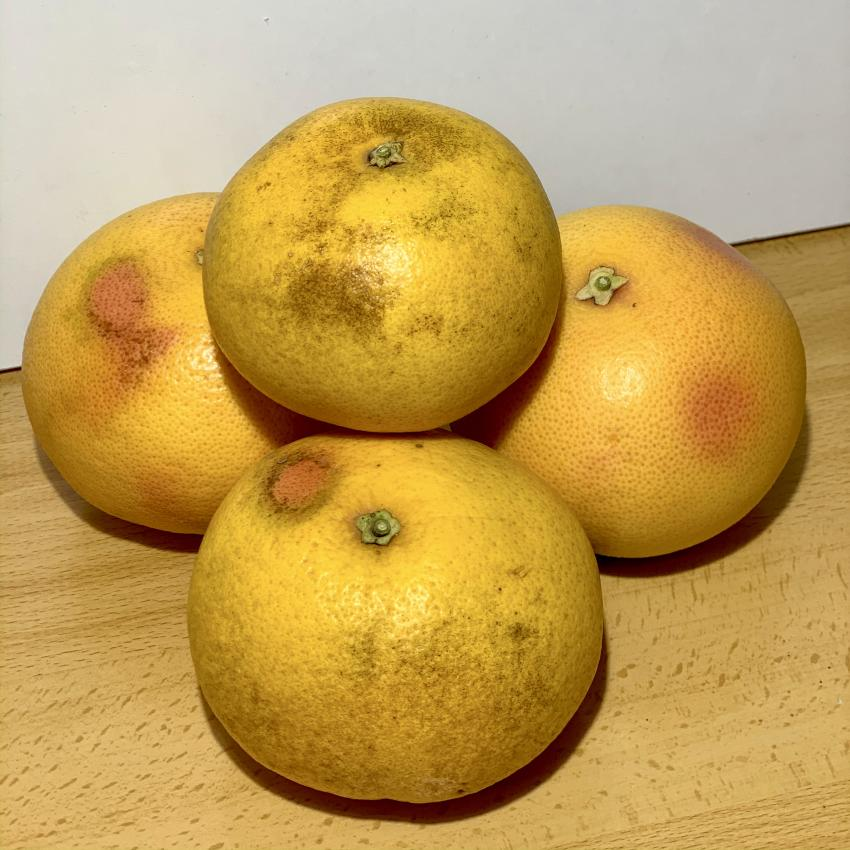Mal estado: (171, 431, 620, 823), (196, 90, 580, 443), (469, 185, 811, 565), (20, 180, 314, 553)
